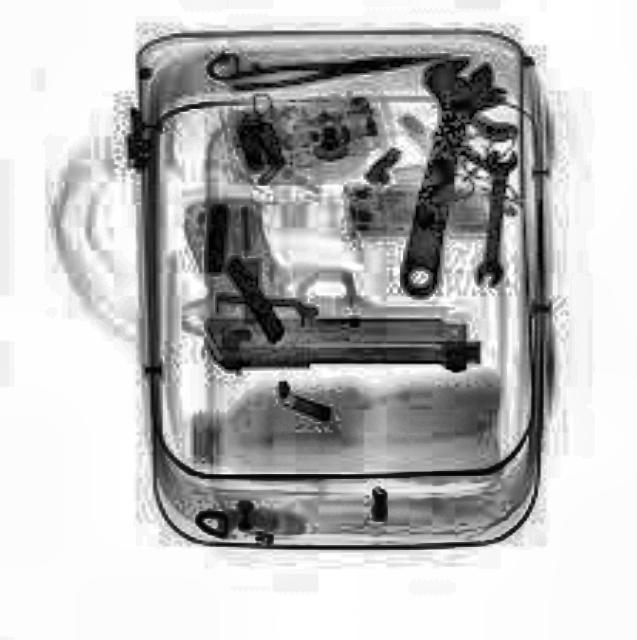Gun: (201, 255, 480, 368)
Wrench: (396, 43, 497, 297), (470, 143, 516, 285)
